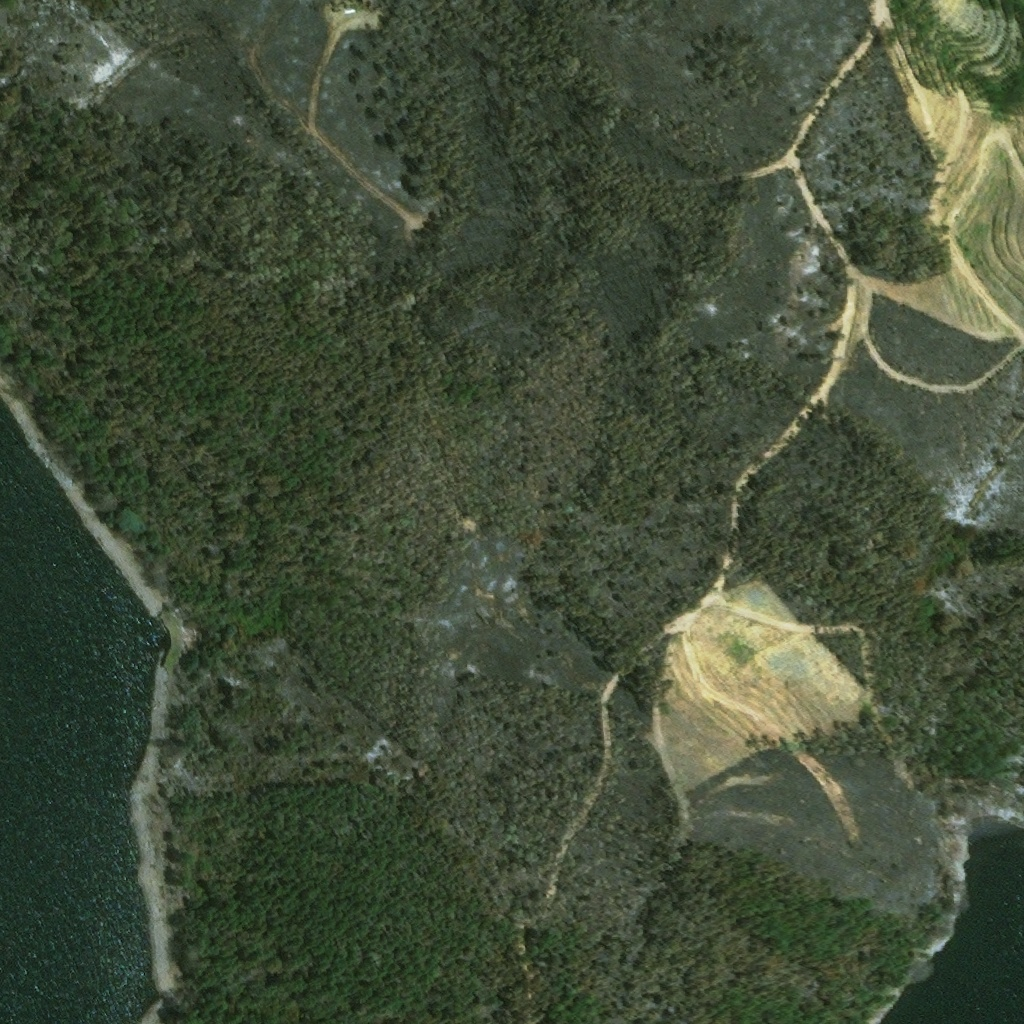4 un-classified: (359, 0, 372, 13)
